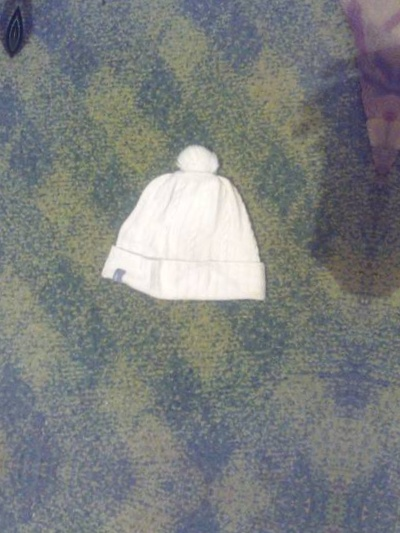Hat: (75, 101, 294, 325)
